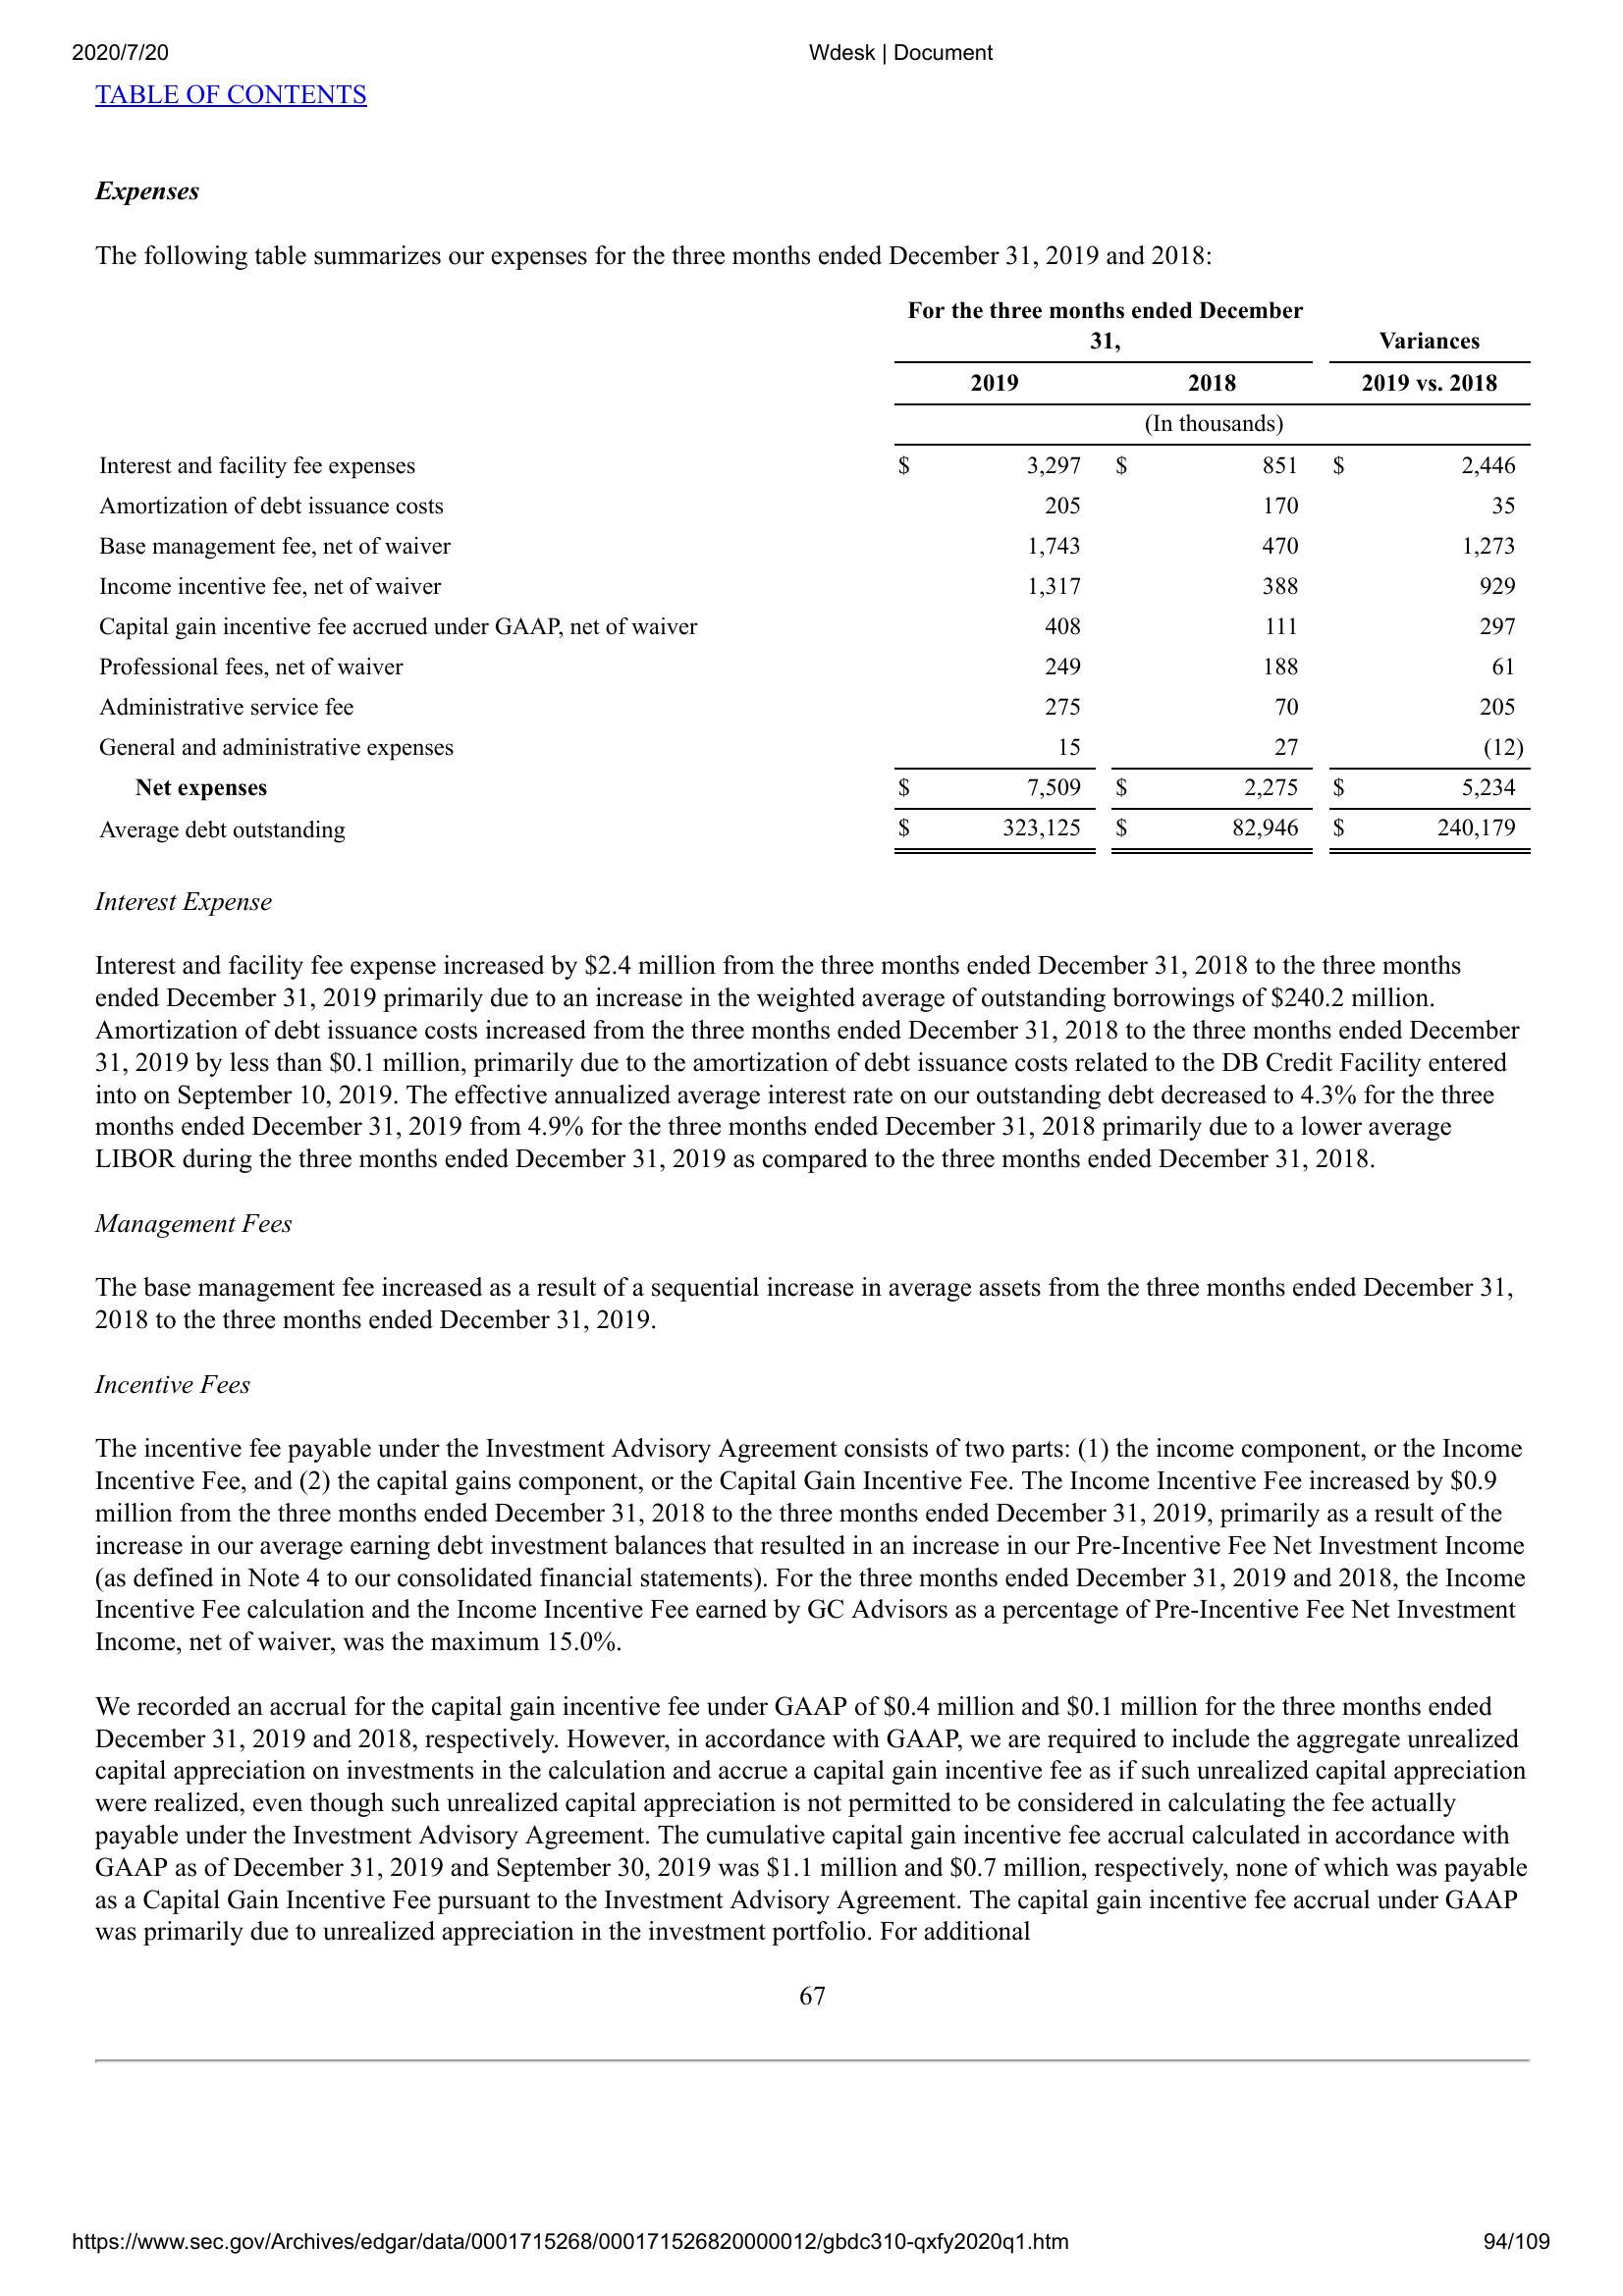table: (77, 295, 1547, 864)
